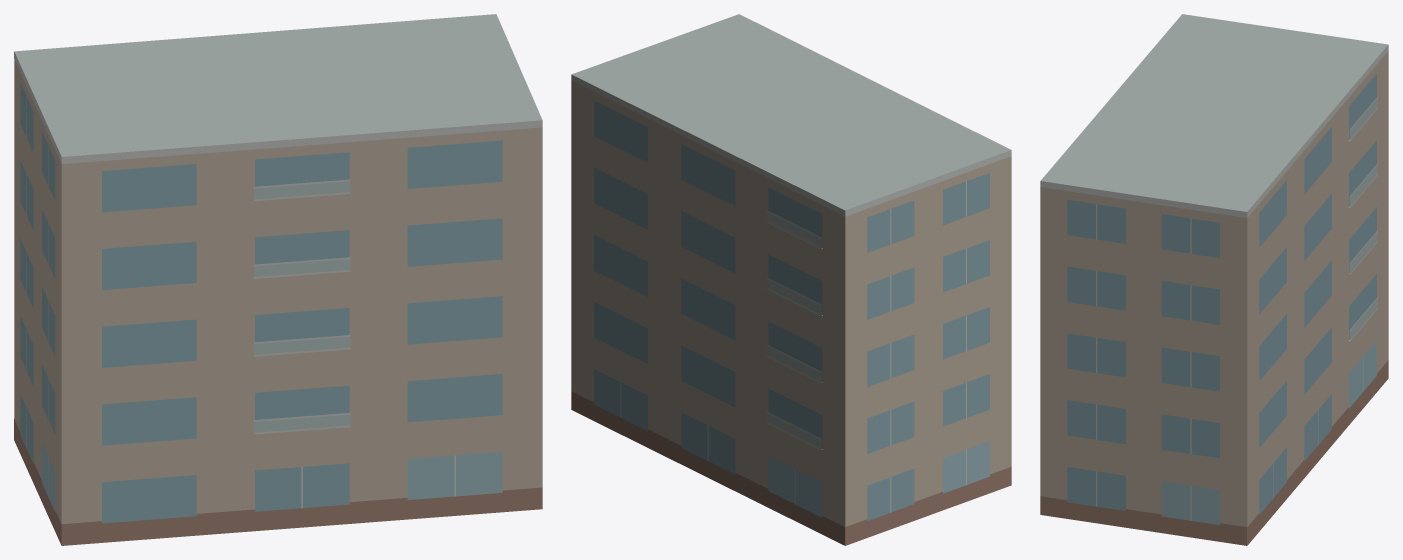
File: survey-upis-32889799.glb
3 views of the same model, side by side, from view 1: azimuth 30°, elevation 25°; view 2: azimuth 150°, elevation 25°; view 3: azimuth 270°, elevation 25° (orthographic). The views are drawn at different scales.
Parts seen in each view (by area): view 1: survey-upis-32889799.tmp; view 2: survey-upis-32889799.tmp; view 3: survey-upis-32889799.tmp.
Boxes of the visible parts, x1,y1,x2,y2 form: survey-upis-32889799.tmp: [14, 14, 542, 545]; survey-upis-32889799.tmp: [571, 14, 1011, 545]; survey-upis-32889799.tmp: [1040, 14, 1388, 545].
Size of the model in its own units: 16.93 by 13.3 by 12.58.
